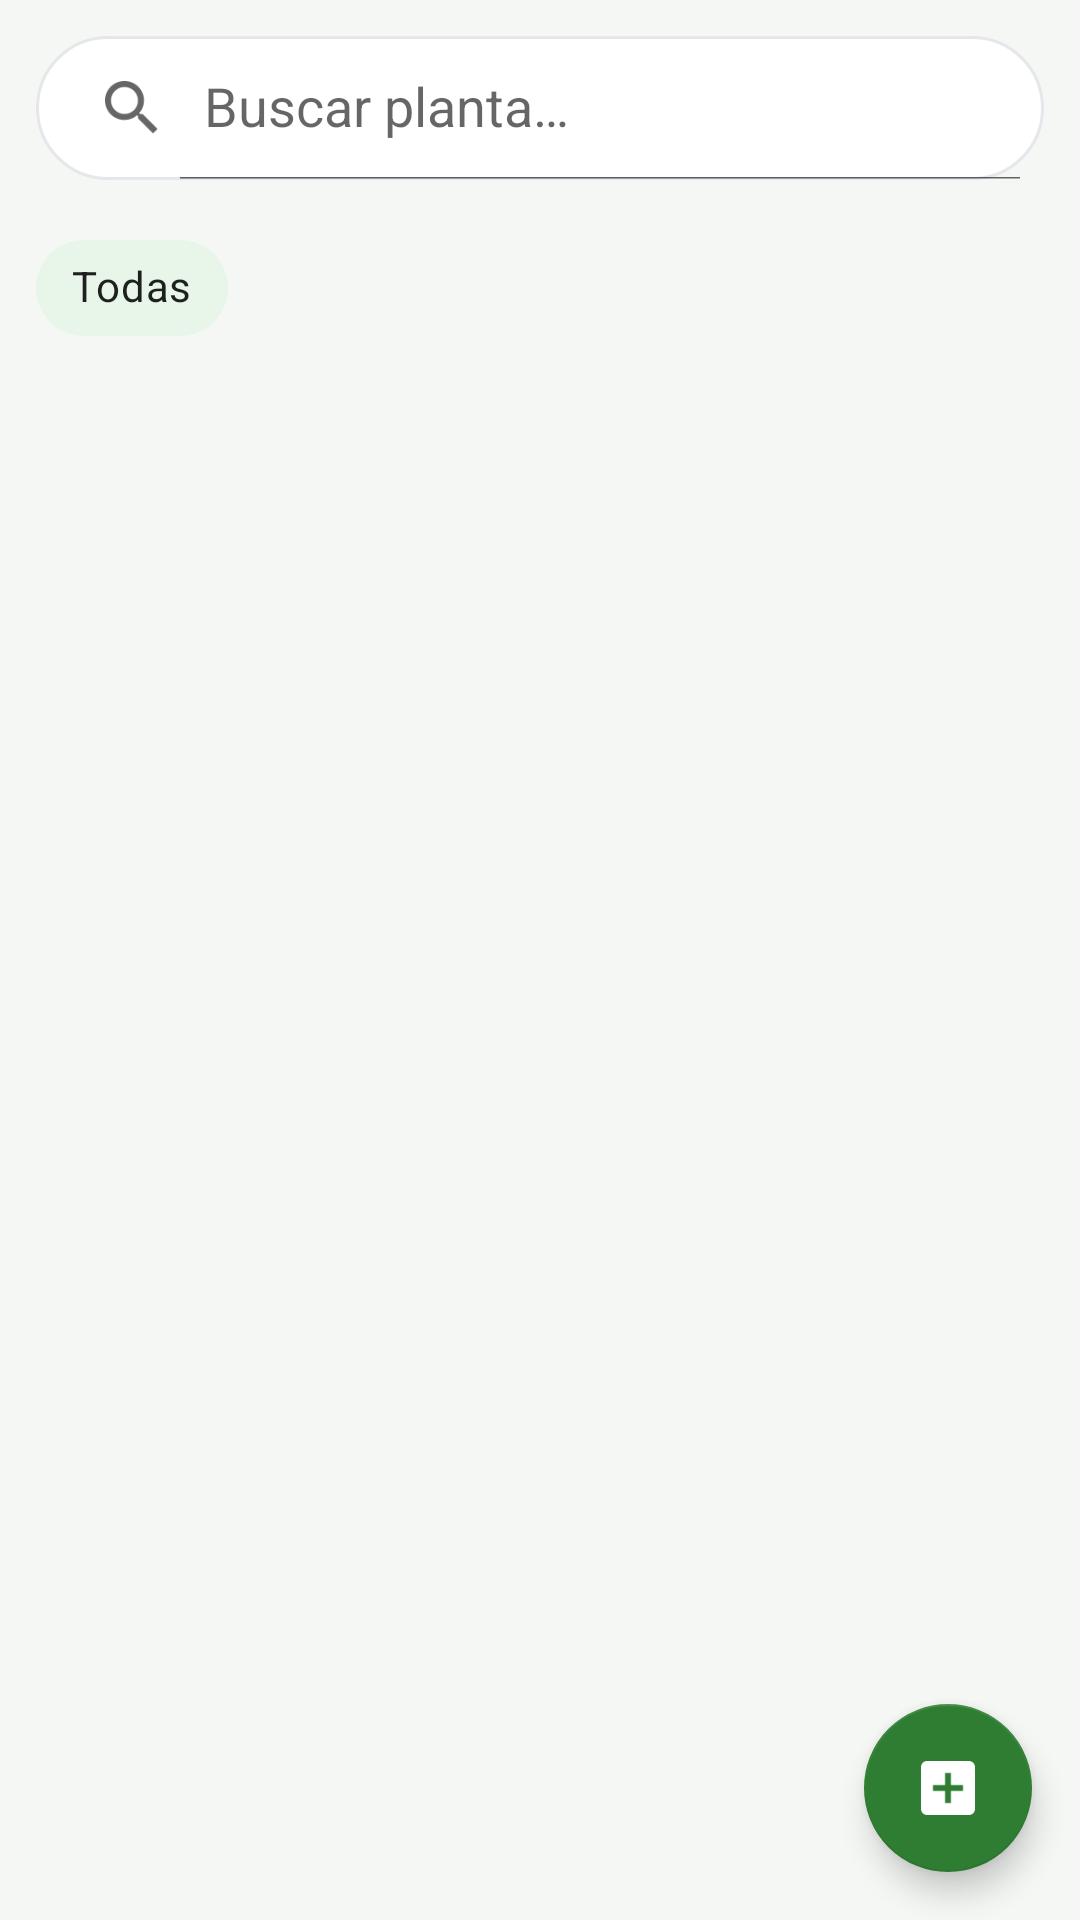

Icons on this 1080px x 1920px Android screen, each with its box as (x1, y1, x2, y2):
Adicionar nova planta: (864, 1704, 1032, 1872)
